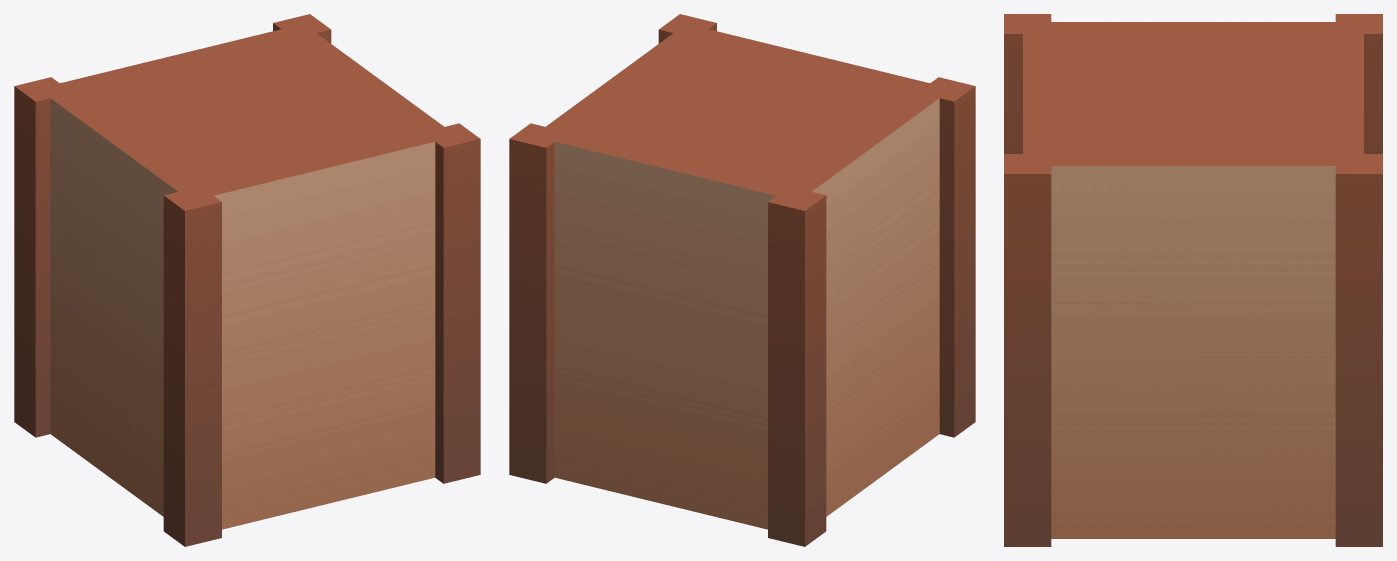
Rendered from tower-square-mid.glb.
3 views of the same model, side by side, from view 1: azimuth 30°, elevation 25°; view 2: azimuth 150°, elevation 25°; view 3: azimuth 270°, elevation 25° (orthographic). The views are drawn at different scales.
Parts seen in each view (by area): view 1: tower-square-mid; view 2: tower-square-mid; view 3: tower-square-mid.
Boxes of the visible parts, x1,y1,x2,y2 form: tower-square-mid: (14,14,480,546); tower-square-mid: (509,14,975,546); tower-square-mid: (1004,14,1382,546).
Size of the model in its own units: 2.79 by 3.03 by 2.79.
1 material, 1 textured.
